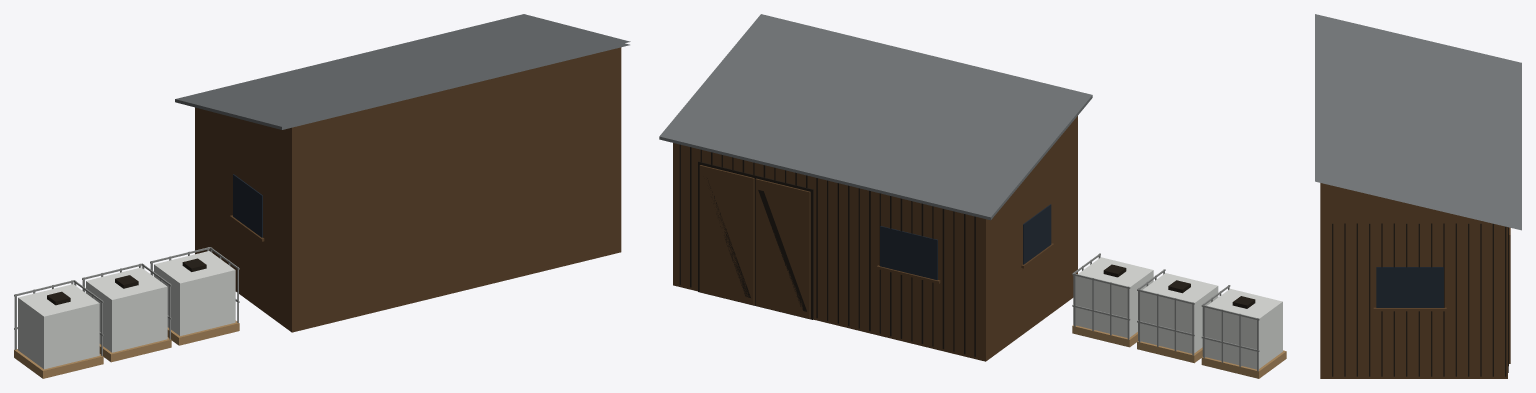
Rendered from pole_bouda.glb.
The picture shows the model from 3 angles, left to right: view 1: azimuth 30°, elevation 25°; view 2: azimuth 150°, elevation 25°; view 3: azimuth 270°, elevation 25°; orthographic projection. The views are drawn at different scales.
Visible parts, largest first — view 1: bouda_prkna.001; view 2: bouda_prkna.001; view 3: bouda_prkna.001.
Part boxes in pixels (x1,y1,x2,y2): bouda_prkna.001: (14, 14, 630, 378); bouda_prkna.001: (659, 14, 1286, 378); bouda_prkna.001: (1315, 14, 1521, 378).
Size of the model in its own units: 11.3 by 3.99 by 3.67.
Materials: 1 (1 with a texture image).
